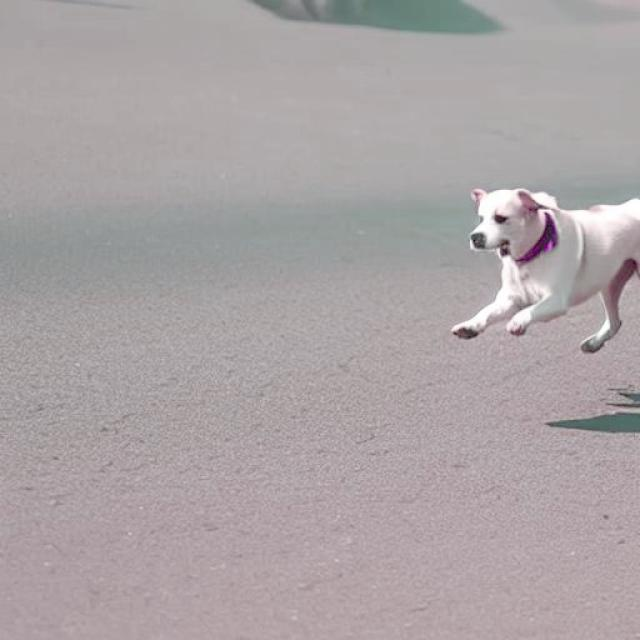Dog: (452, 188, 640, 354)
